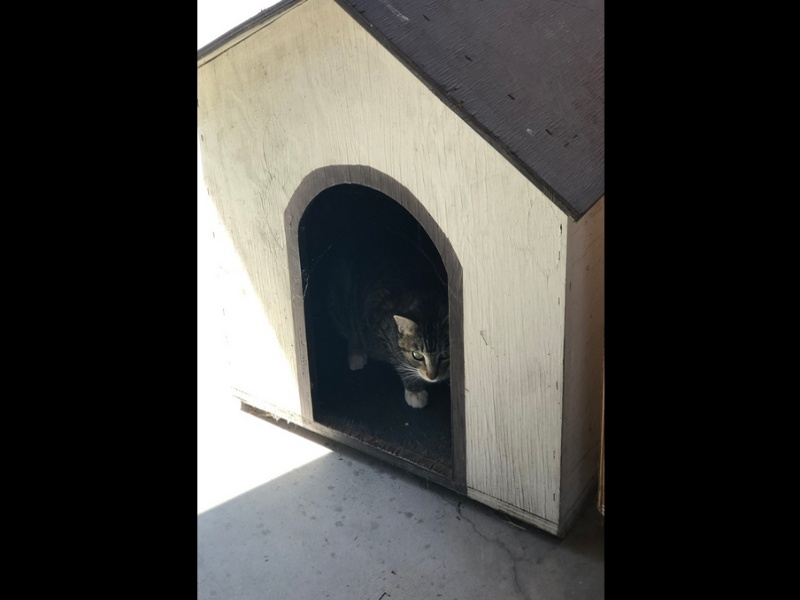cat: (318, 228, 451, 409)
